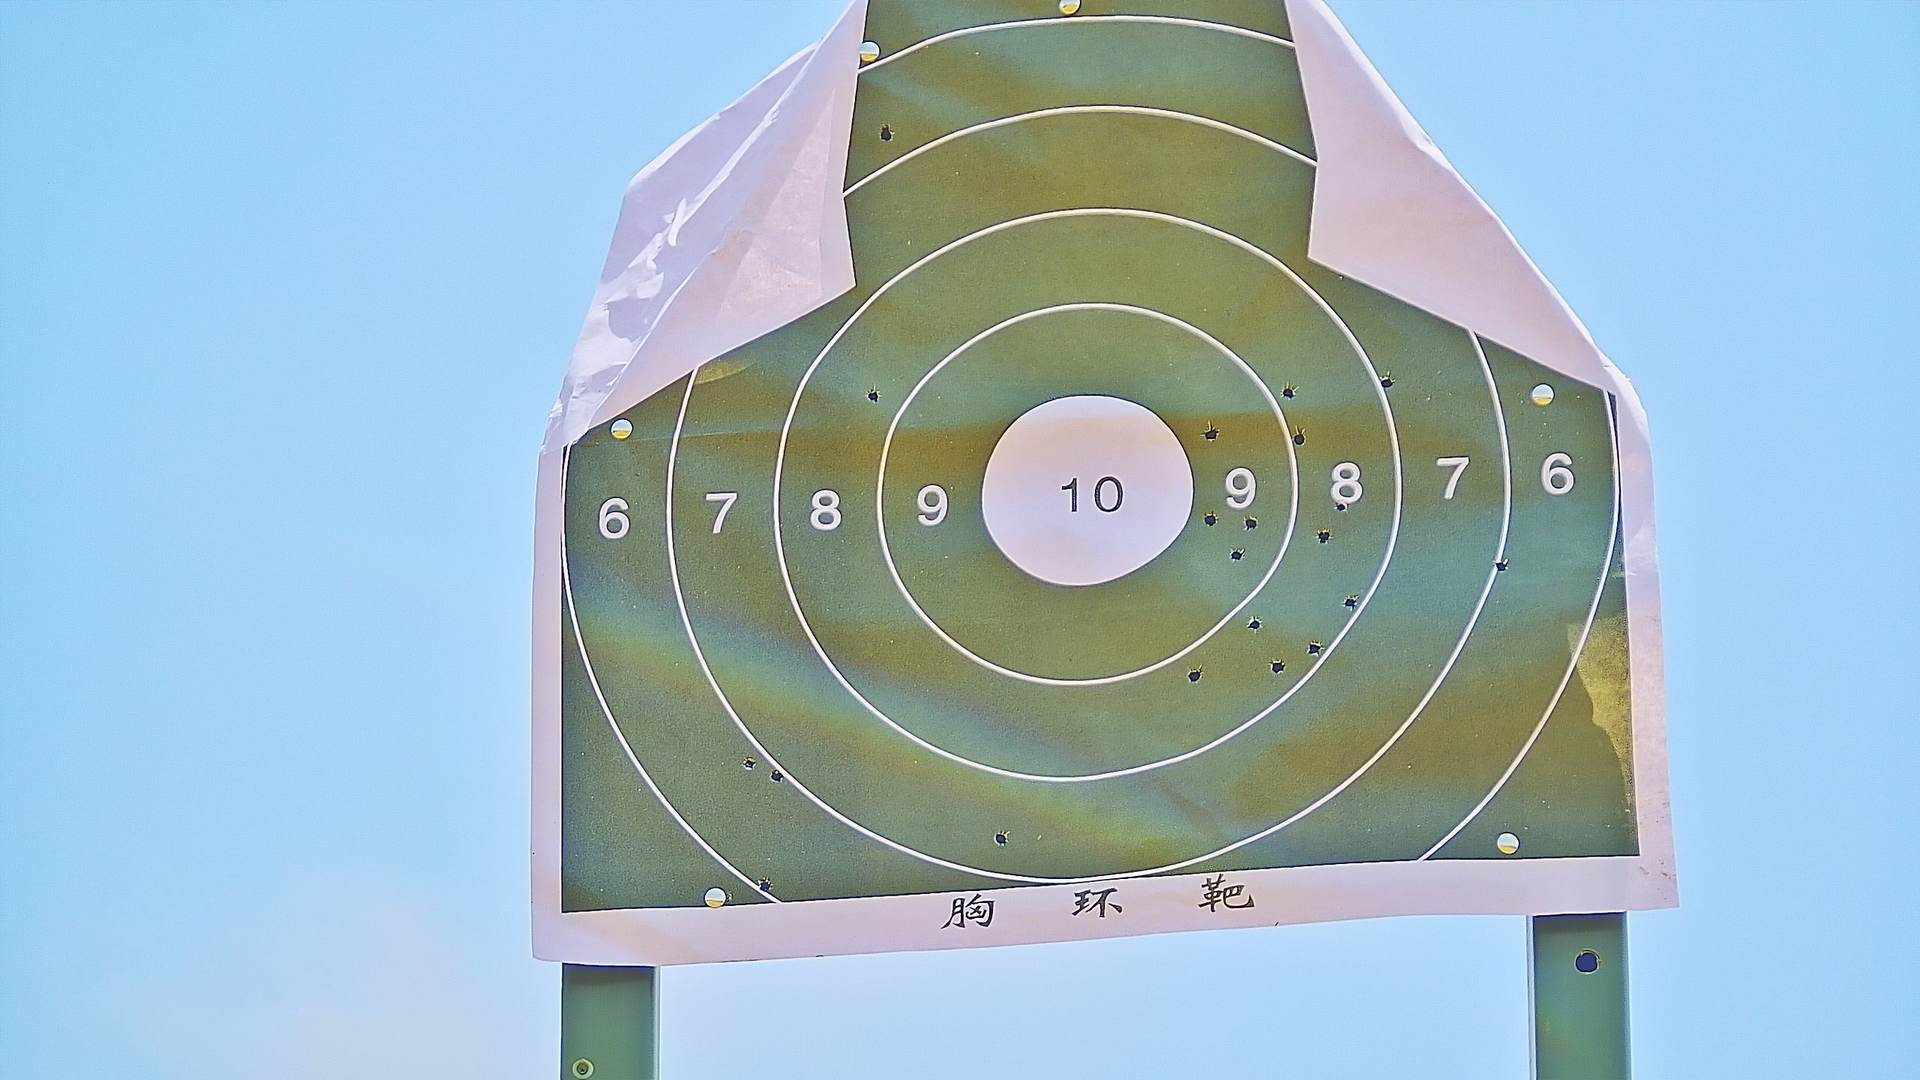hole: (1292, 431, 1309, 448), (1342, 593, 1358, 612), (1315, 530, 1333, 545), (1270, 657, 1284, 674), (1491, 556, 1509, 571), (1203, 426, 1218, 440), (1187, 669, 1201, 683), (1379, 375, 1395, 388), (996, 831, 1007, 848), (1282, 386, 1296, 400), (1335, 501, 1349, 514), (740, 757, 756, 769), (1307, 644, 1323, 655), (882, 125, 893, 142), (769, 767, 782, 781), (757, 878, 770, 891), (869, 388, 880, 404), (1244, 517, 1257, 529), (1230, 549, 1244, 560), (1207, 512, 1217, 526), (1249, 618, 1261, 629)
kernel: (1084, 495, 1087, 497)
target: (567, 3, 1648, 905)
ten: (981, 396, 1195, 587)
